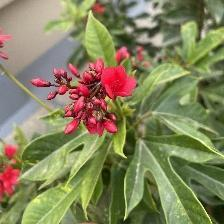jatropha: (101, 62, 141, 102)
